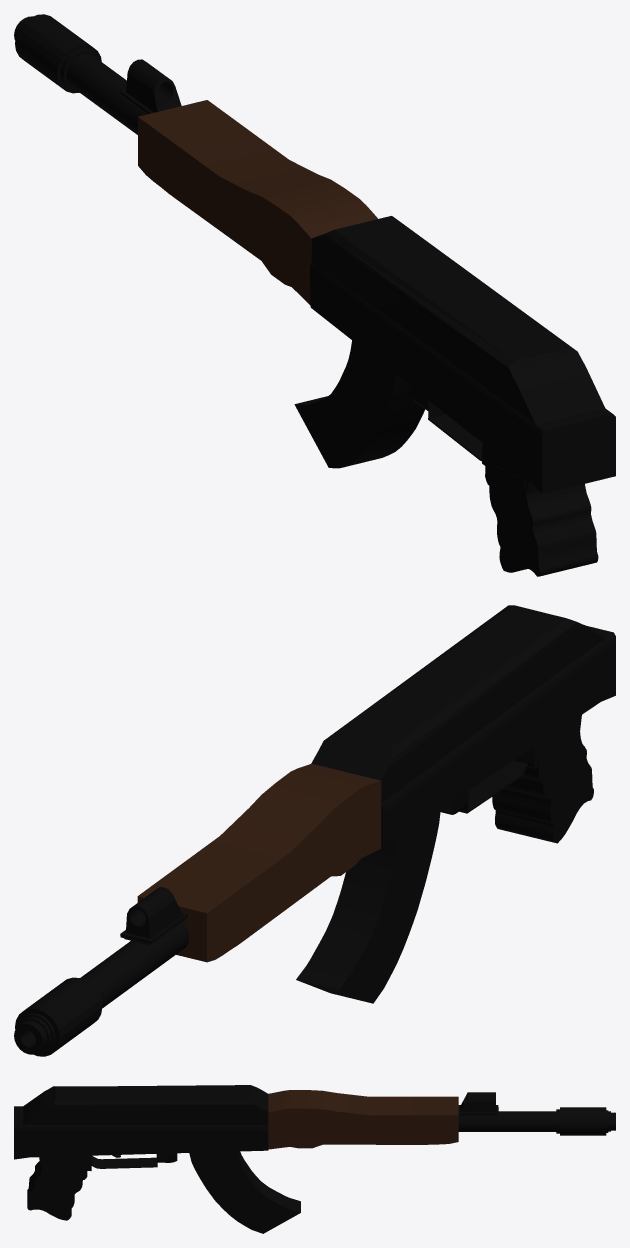
3 renders of one model, top to bottom at view 1: azimuth 30°, elevation 25°; view 2: azimuth 150°, elevation 25°; view 3: azimuth 270°, elevation 25°, orthographic. The views are drawn at different scales.
Visible parts, largest first — view 1: Ak-47; view 2: Ak-47; view 3: Ak-47.
Boxes of the visible parts, x1,y1,x2,y2 form: Ak-47: (14, 14, 615, 576); Ak-47: (14, 605, 615, 1056); Ak-47: (14, 1085, 615, 1233).
Bounding box in the file's own units: 47.46 × 152 × 609.
